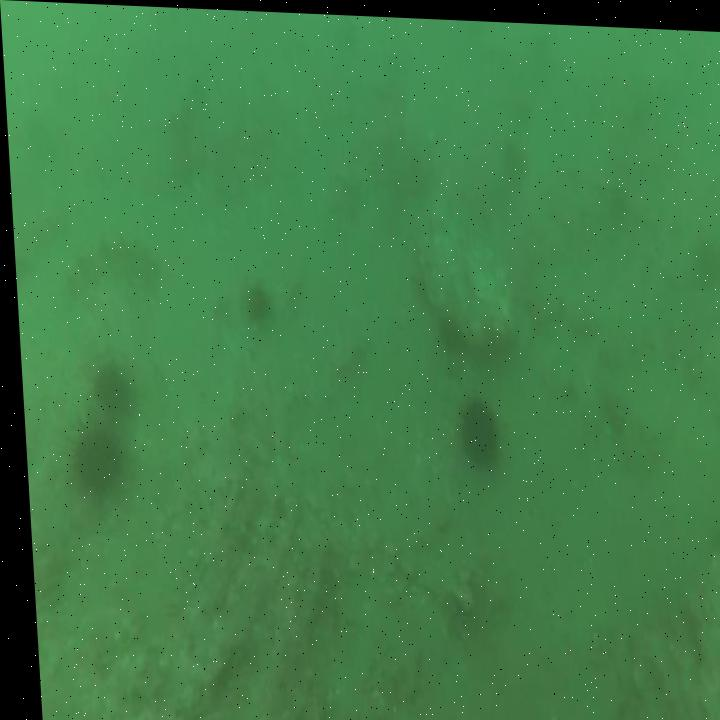echinus: (457, 403, 495, 463), (67, 434, 111, 485), (91, 367, 124, 407), (434, 312, 457, 351), (240, 285, 263, 318)
